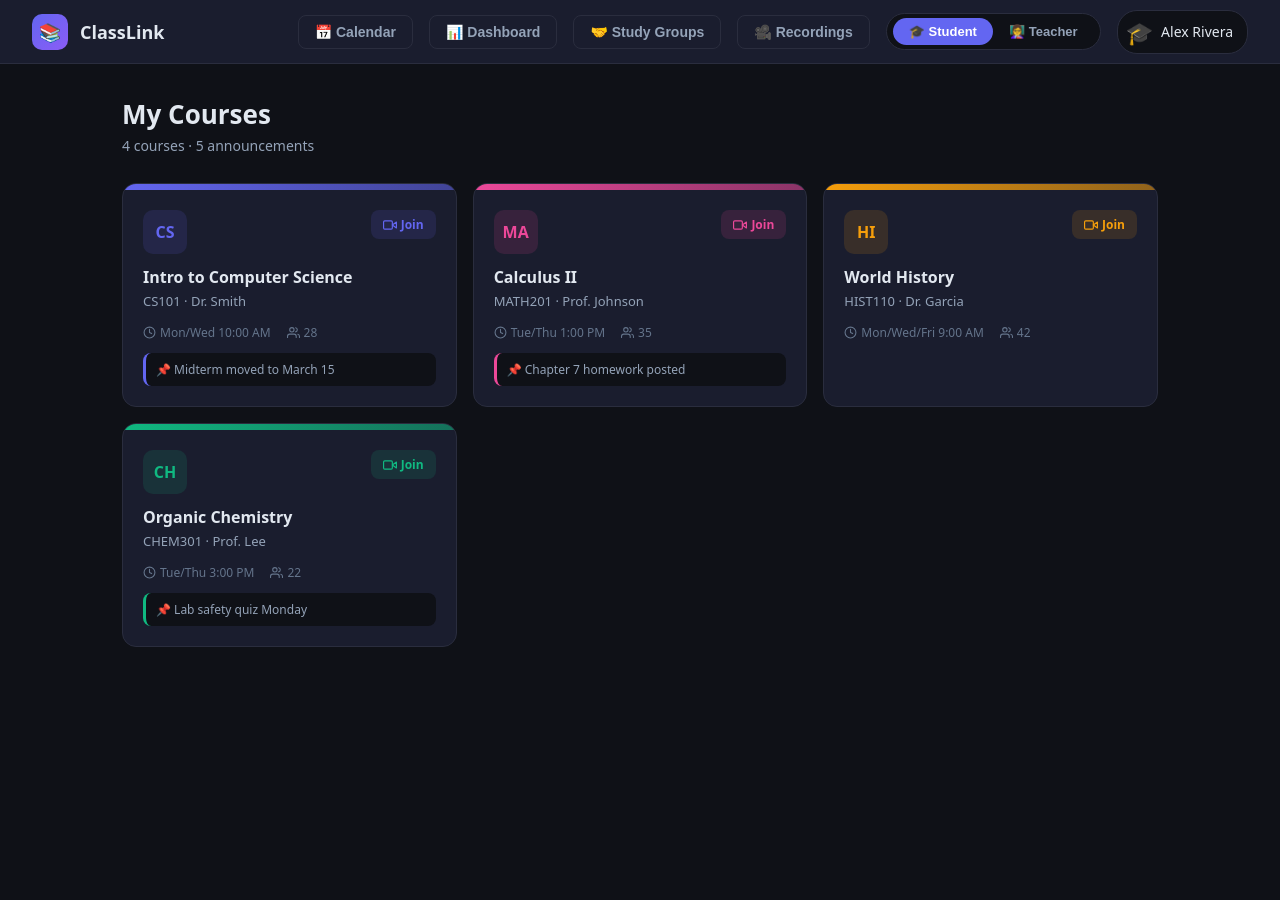
Test: App component › clicking a calendar day opens modal with events (large component still works)
Click the button "📅 Calendar". click: [355, 32]
box: left=298, top=14, right=413, bottom=48
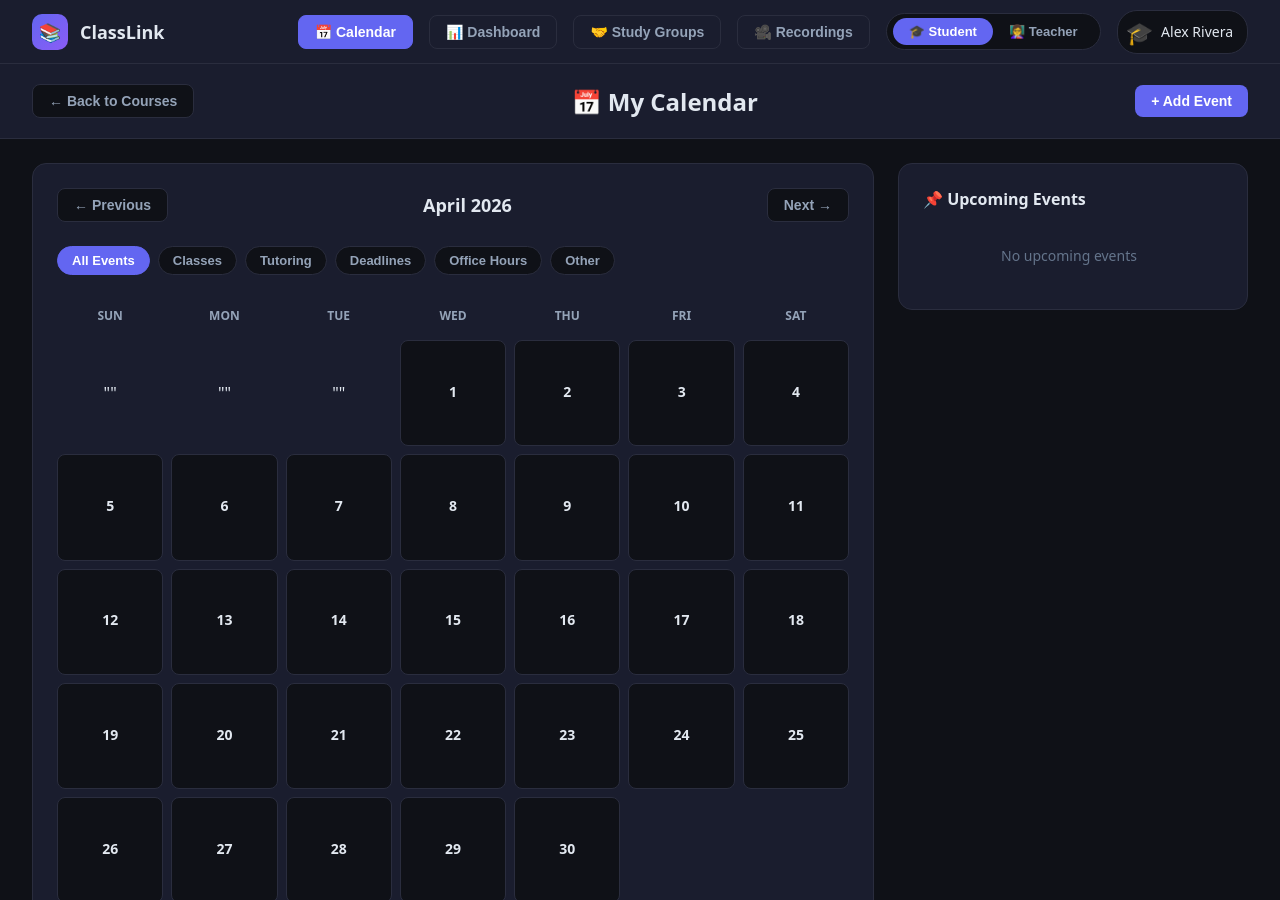
// Click any day (example: 10)
Click the text "10". click: [682, 505]
box: left=674, top=496, right=690, bottom=515
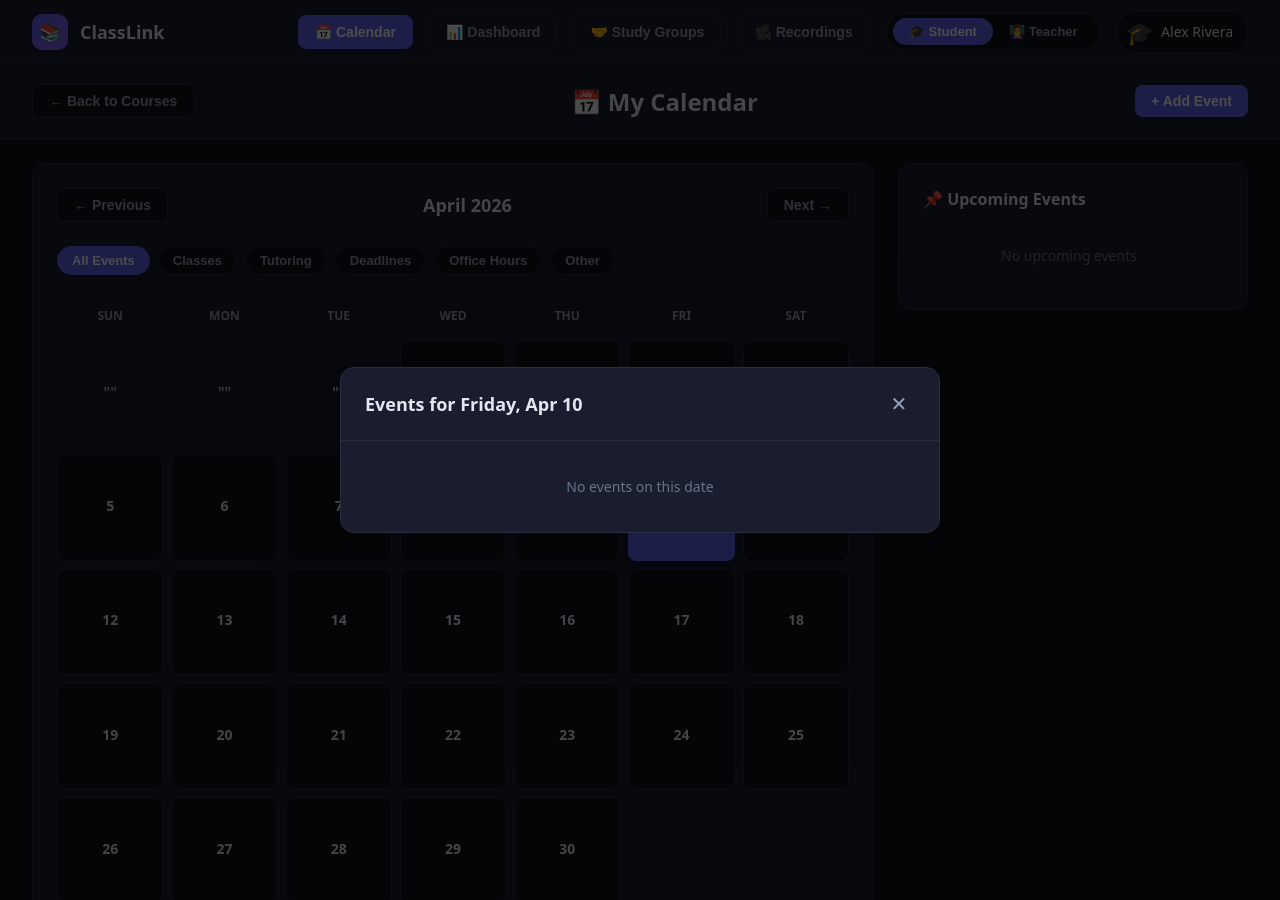
Check: the heading "Events for Friday, Apr 10" is shown, box left=365, top=392, right=583, bottom=416
